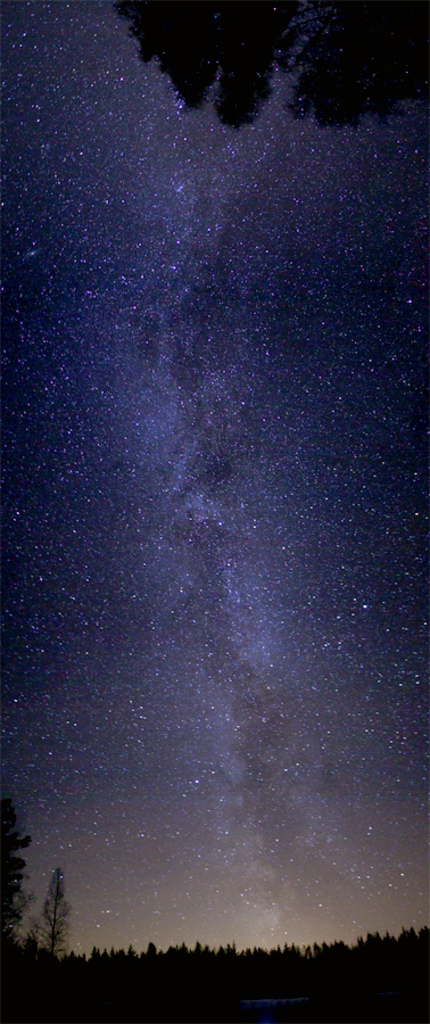Tree: (0, 797, 430, 998), (111, 3, 430, 129)
